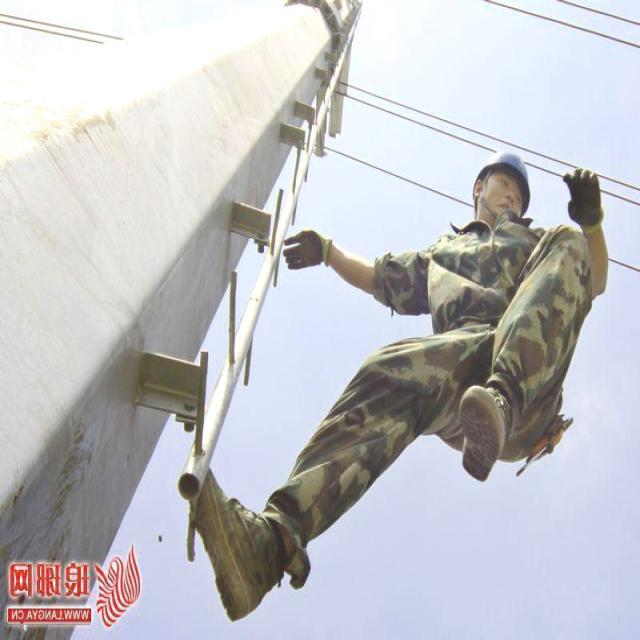face_nomask: (484, 174, 522, 227)
hand_glove: (560, 161, 606, 233), (284, 224, 338, 283)
head_helmet: (469, 152, 536, 212)
person: (197, 147, 609, 620)
shoes: (183, 430, 286, 632), (457, 370, 517, 483)
